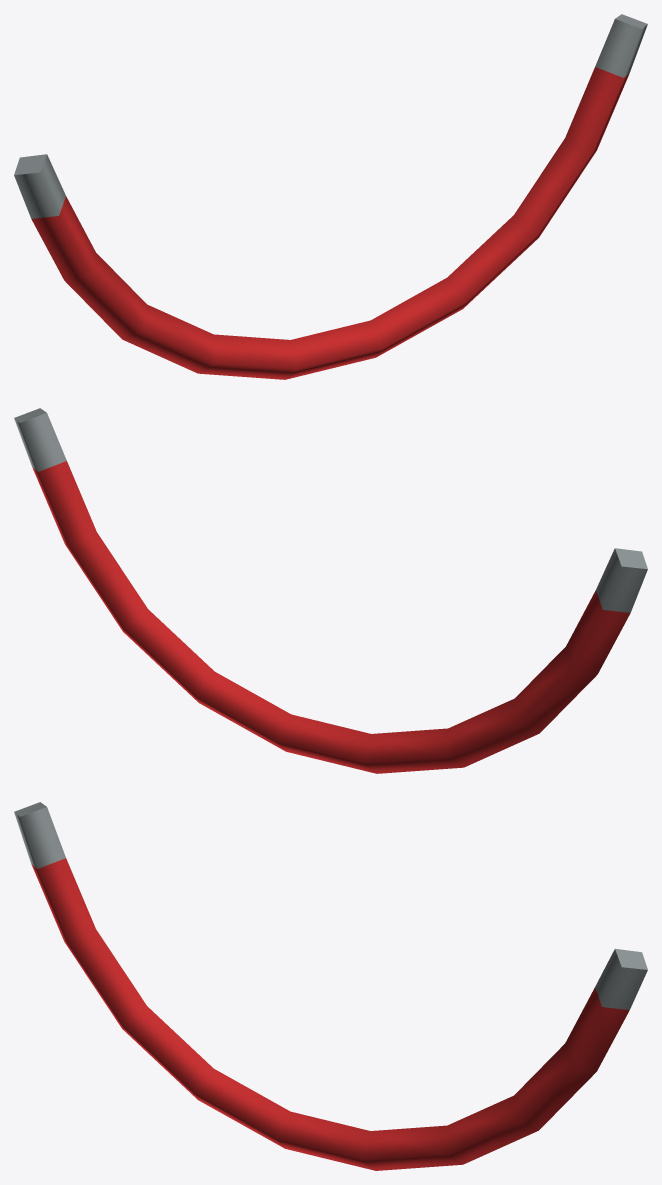
File: Fence_08.glb
3 renders of one model, top to bottom at view 1: azimuth 30°, elevation 25°; view 2: azimuth 150°, elevation 25°; view 3: azimuth 330°, elevation 25°, orthographic.
Parts seen in each view (by area): view 1: Fence_08; view 2: Fence_08; view 3: Fence_08.
Boxes of the visible parts, x1,y1,x2,y2 form: Fence_08: [14, 14, 647, 379]; Fence_08: [14, 408, 647, 773]; Fence_08: [14, 802, 647, 1170].
Size of the model in its own units: 0.9433 by 0.4035 by 0.0562.
Materials: 1 (1 with a texture image).
